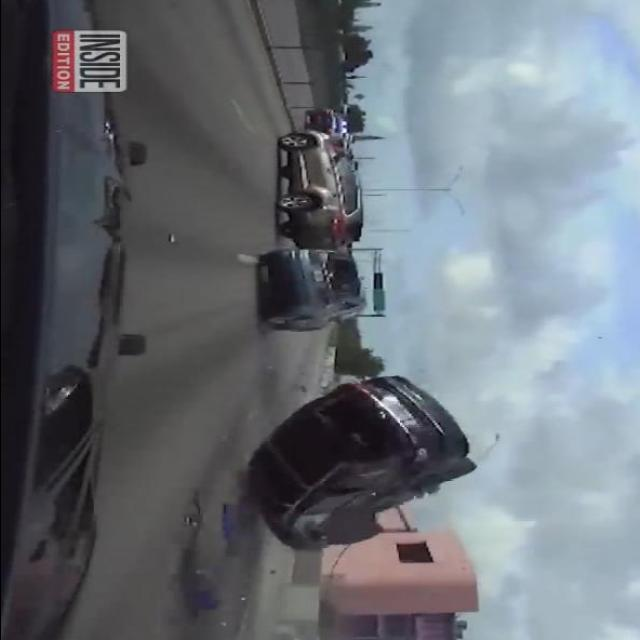accident: (232, 369, 480, 547)
